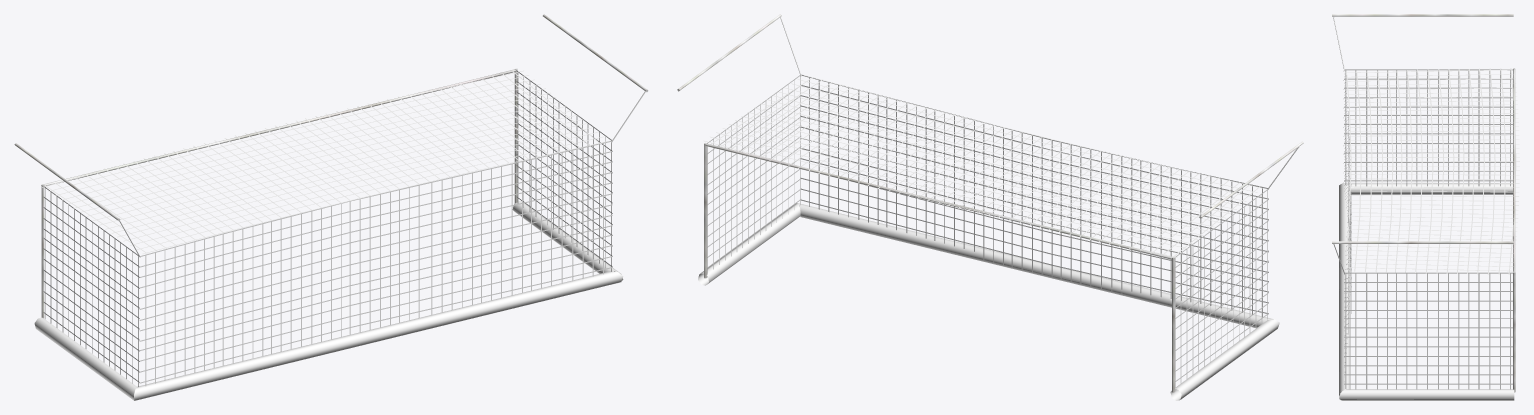
File: gol.obj
3 views of the same model, side by side, from view 1: azimuth 30°, elevation 25°; view 2: azimuth 150°, elevation 25°; view 3: azimuth 270°, elevation 25° (orthographic). The views are drawn at different scales.
Visible parts, largest first — view 1: Default object_14, Default object_13, Default object_3, Default object_5, Default object_4, Default object_2, Default object_12, Default object_1; view 2: Default object_14, Default object_13, Default object_3, Default object_5, Default object_4, Default object_2, Default object_1, Default object_12; view 3: Default object_13, Default object_4, Default object_5, Default object_3, Default object_1, Default object_2, Default object_14, Default object_12, Default object_7, Default object_8, Default object_11.
Part boxes in pixels (bbox=[...]): Default object_14: bbox=[139, 140, 612, 386]; Default object_13: bbox=[42, 70, 608, 253]; Default object_3: bbox=[134, 271, 623, 400]; Default object_5: bbox=[43, 186, 139, 386]; Default object_4: bbox=[516, 70, 612, 271]; Default object_2: bbox=[34, 317, 136, 400]; Default object_12: bbox=[41, 69, 516, 186]; Default object_1: bbox=[512, 201, 623, 283]; Default object_14: bbox=[800, 74, 1268, 317]; Default object_13: bbox=[703, 75, 1262, 257]; Default object_3: bbox=[797, 203, 1273, 327]; Default object_5: bbox=[1175, 189, 1268, 391]; Default object_4: bbox=[707, 74, 801, 273]; Default object_2: bbox=[1170, 319, 1279, 400]; Default object_1: bbox=[698, 203, 800, 285]; Default object_12: bbox=[705, 143, 1171, 259]; Default object_13: bbox=[1343, 68, 1519, 274]; Default object_4: bbox=[1344, 272, 1512, 389]; Default object_5: bbox=[1344, 69, 1512, 186]; Default object_3: bbox=[1339, 183, 1350, 400]; Default object_1: bbox=[1339, 389, 1514, 400]; Default object_2: bbox=[1343, 183, 1512, 194]; Default object_14: bbox=[1343, 71, 1351, 381]; Default object_12: bbox=[1513, 69, 1515, 271]; Default object_7: bbox=[1332, 241, 1513, 243]; Default object_8: bbox=[1332, 14, 1513, 16]; Default object_11: bbox=[1513, 271, 1515, 392].
Size of the model in its own units: 4.44 by 1.54 by 1.54.
